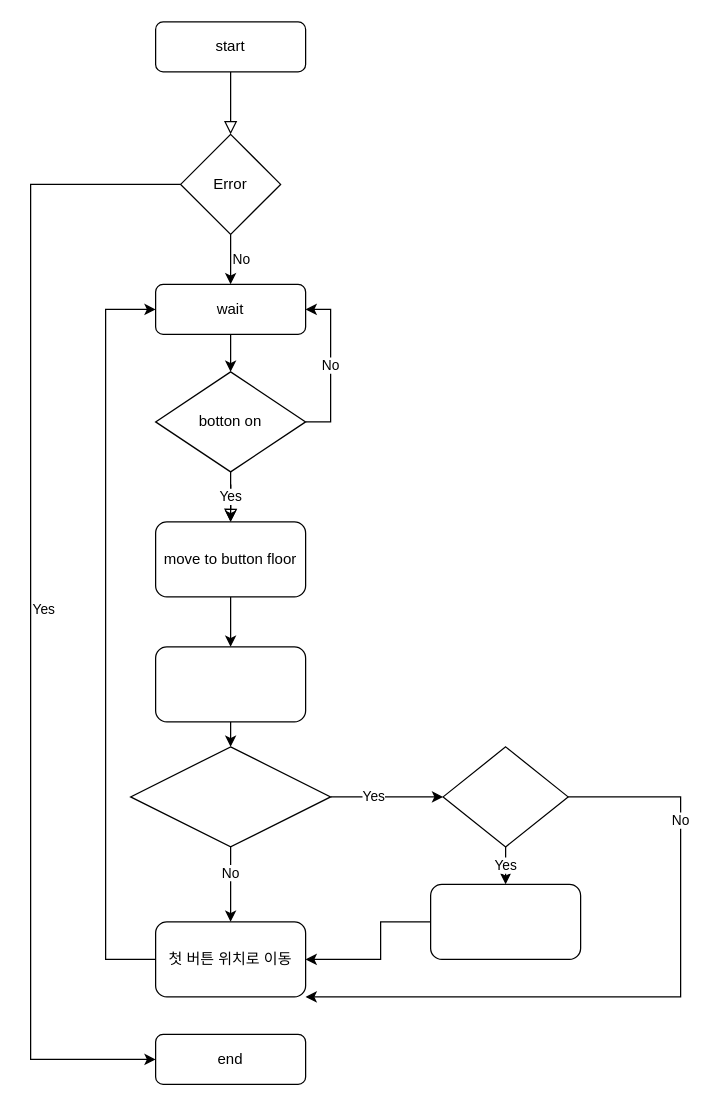
Some shapes in this 713 by 1106 pixel diagram are drawn without their labels. Here are the shapes that lost their labels. From the top down, the box of each, then its label:
(154, 646, 306, 722): new botton on
(129, 746, 331, 847): 동선안에 늘려진 층이 있는가
(442, 746, 568, 847): 지나치기전인가
(429, 883, 581, 959): new 버튼 위치 이동
